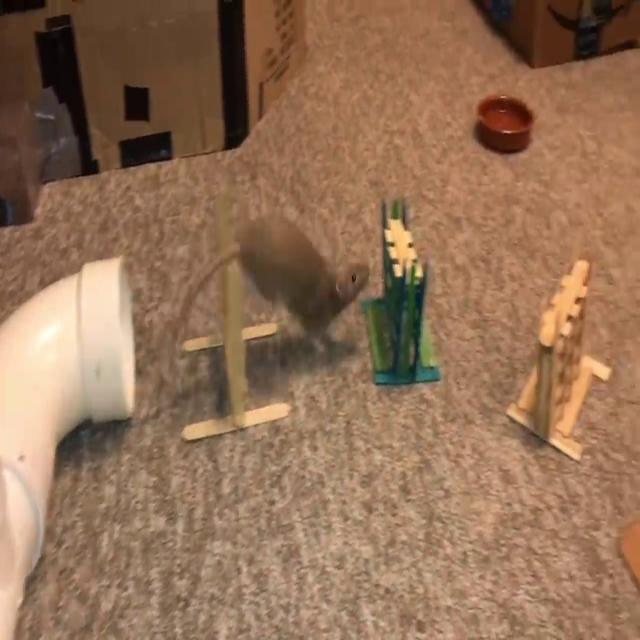rat: (235, 211, 372, 354)
